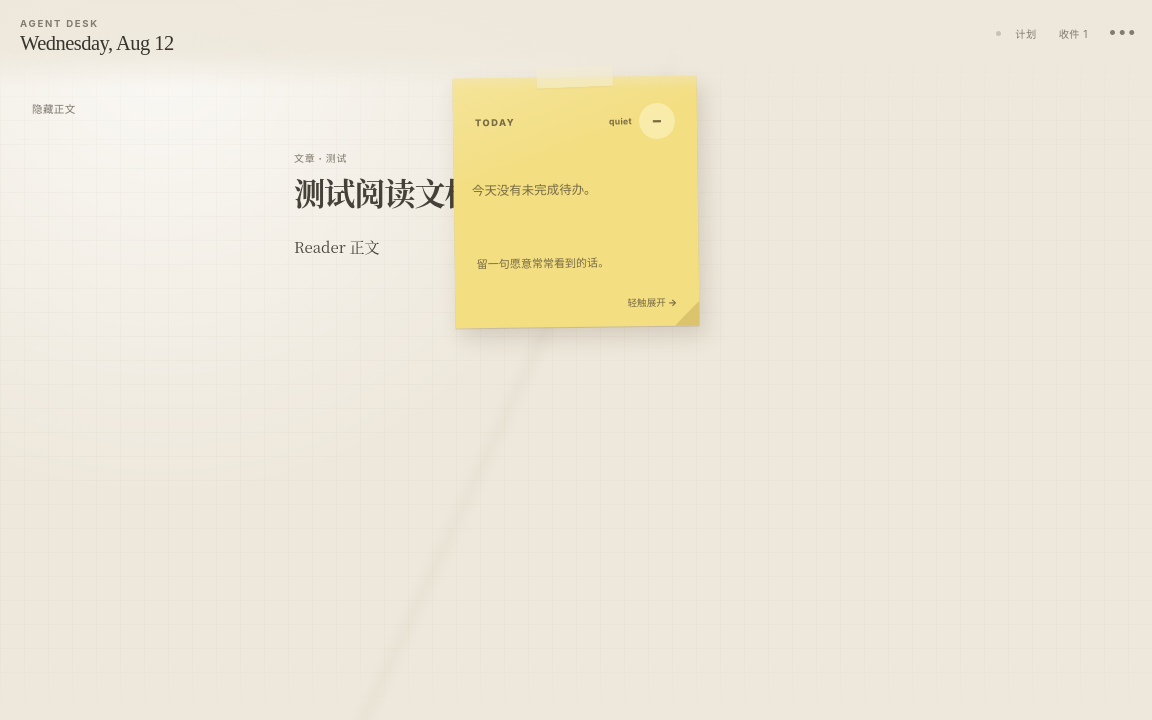
Test: StickyHome M1-B4 › navigates Reader to Inbox and opens a Delivery into visible Reader content
Click the button with aria-label "打开收件箱，1 件未打开": x=1073, y=33 [1051, 20, 1096, 46]
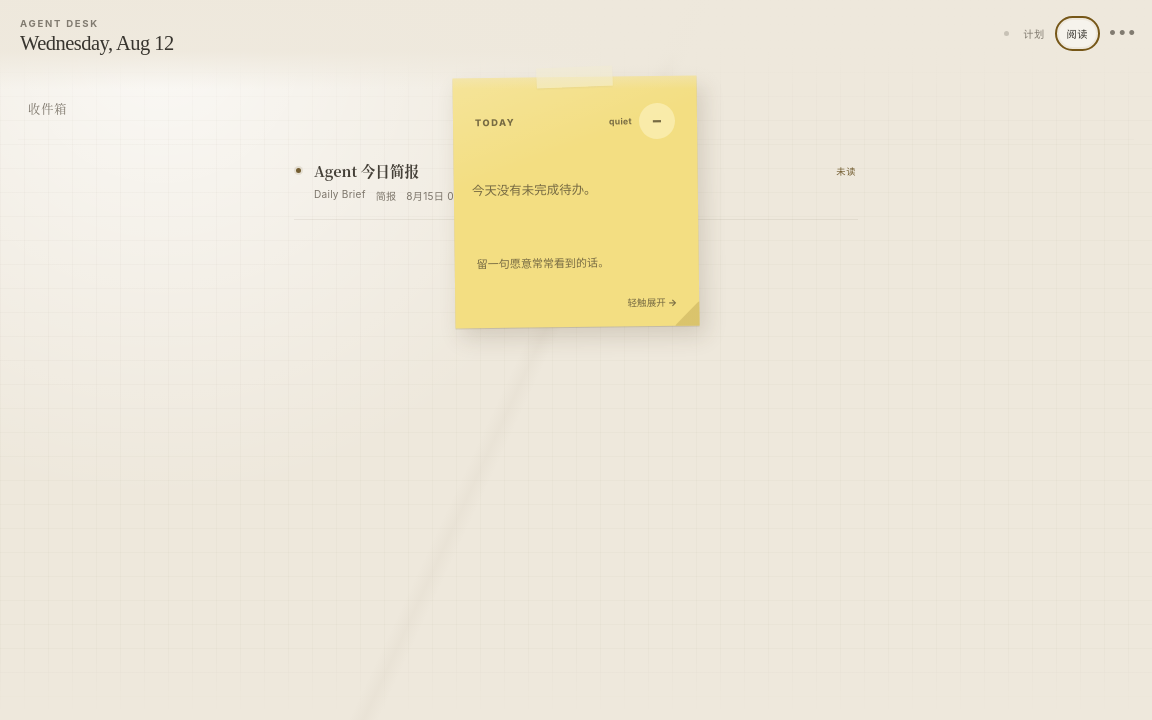
Now the text "收件箱" is shown, box [28, 100, 67, 116]
Now the element named "Inbox scroll viewport" is shown
Click the button with aria-label "未读，Agent 今日简报": x=366, y=170 [294, 144, 858, 220]
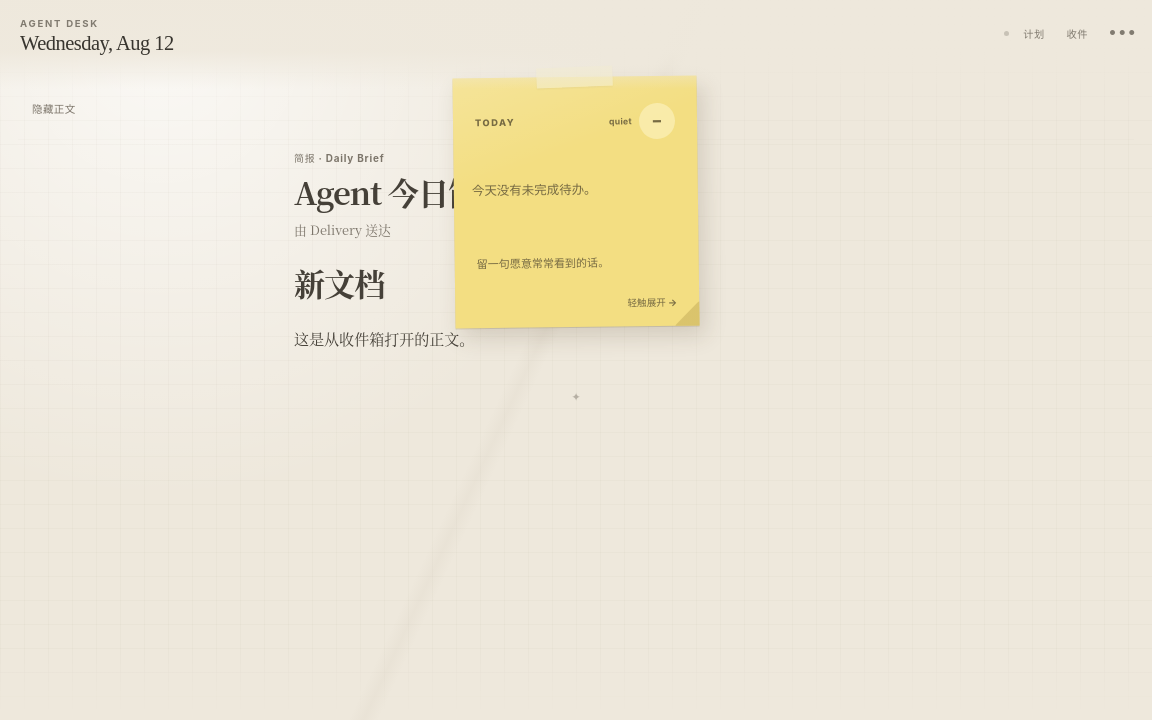
Now the element "Agent 今日简报" is shown, box [294, 152, 581, 404]
Now the text "这是从收件箱打开的正文。" is shown, box [294, 328, 474, 349]
Now the button with aria-label "打开收件箱" reads "收件", box [1059, 20, 1096, 46]
